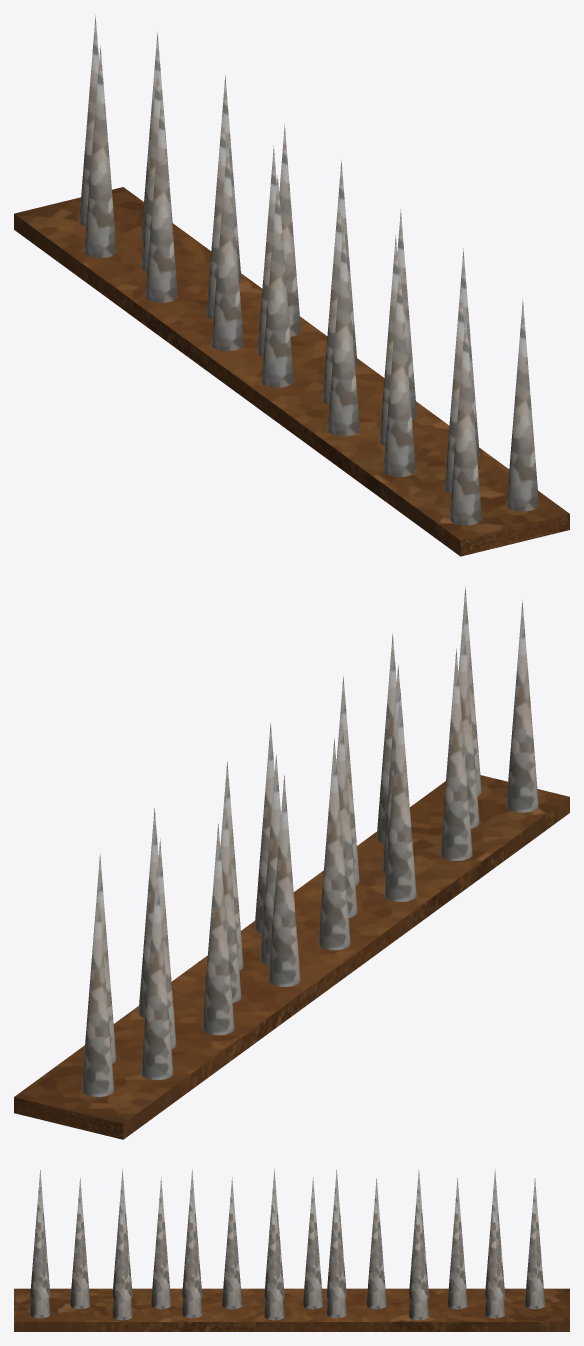
File: SM_Spikeboard.fbx
The picture shows the model from 3 angles, top to bottom: view 1: azimuth 30°, elevation 25°; view 2: azimuth 150°, elevation 25°; view 3: azimuth 270°, elevation 25°; orthographic projection. The views are drawn at different scales.
Visible parts, largest first — view 1: polySurface190; view 2: polySurface190; view 3: polySurface190.
Part boxes in pixels (box(x1,y1,x2,y2)): polySurface190: box(14, 15, 569, 556); polySurface190: box(14, 586, 569, 1139); polySurface190: box(14, 1169, 569, 1331).
Bounding box in the file's own units: 43.5 × 84.74 × 308.
